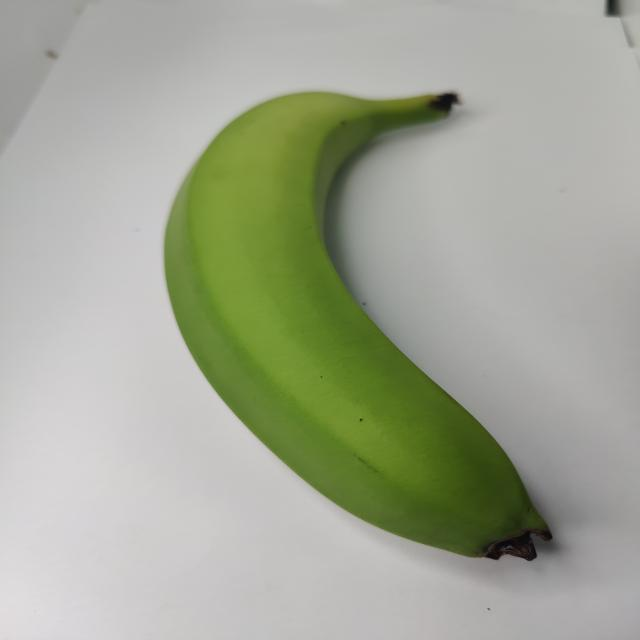raw: (124, 55, 598, 580)
